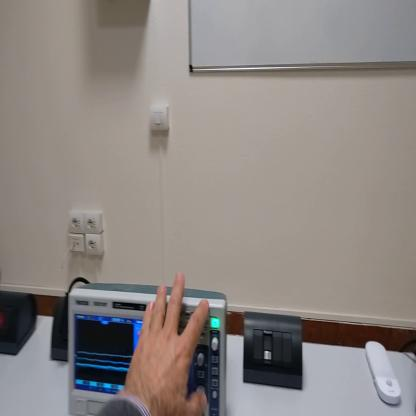hand: (124, 275, 210, 409)
oscilloscope: (69, 278, 230, 416)
socket: (2, 290, 40, 355), (51, 304, 70, 365)
